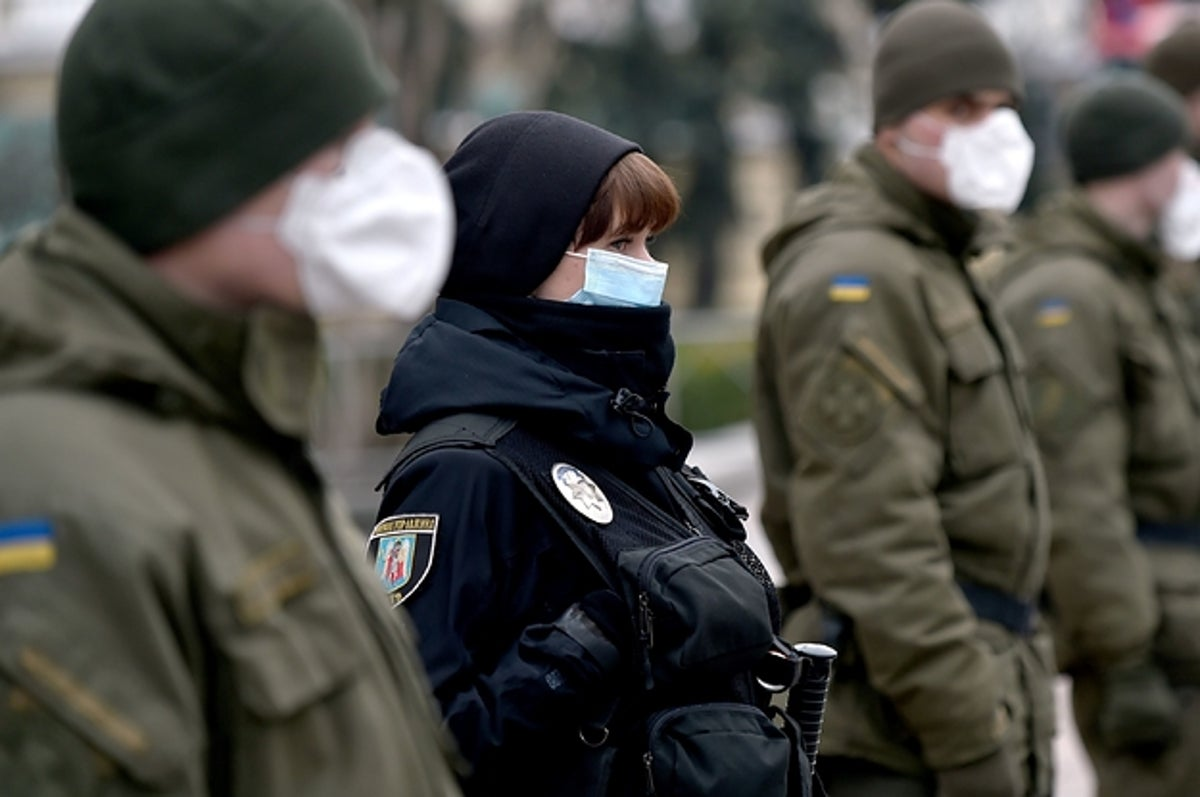with_mask: (275, 100, 417, 313), (926, 73, 1025, 202), (567, 208, 667, 330)
